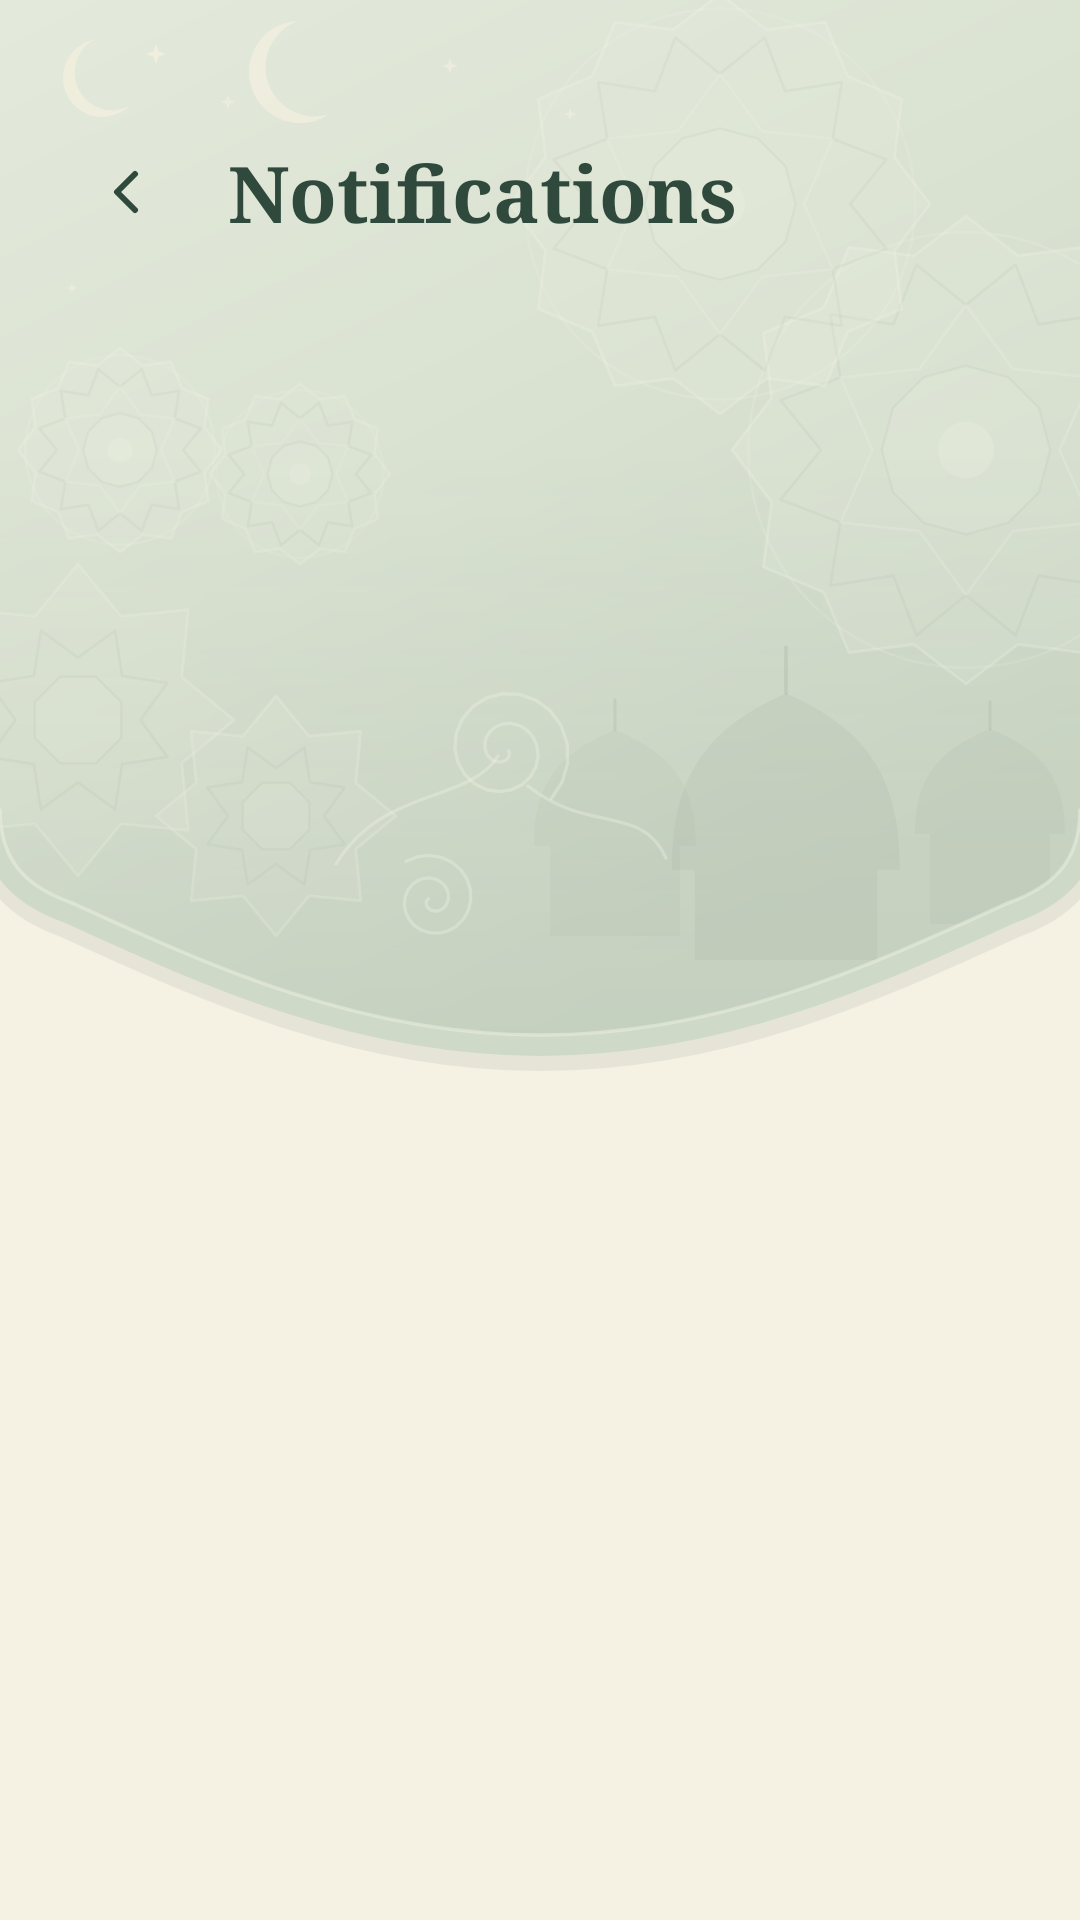

Screen size 1080px x 1920px. Icon name, then its center in pixels as [x,y]:
back arrow: [126,192]
